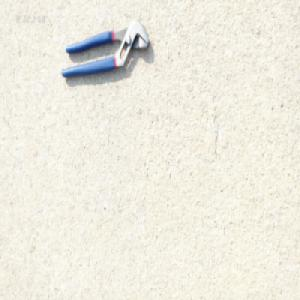Pliers: (60, 19, 150, 80)
